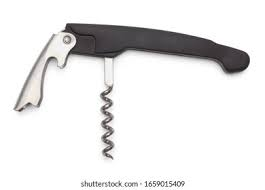bottleopener: (14, 23, 250, 159)
